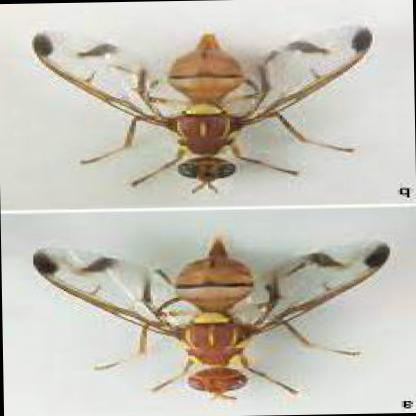fruit fly: (36, 231, 388, 395), (30, 22, 371, 182)
